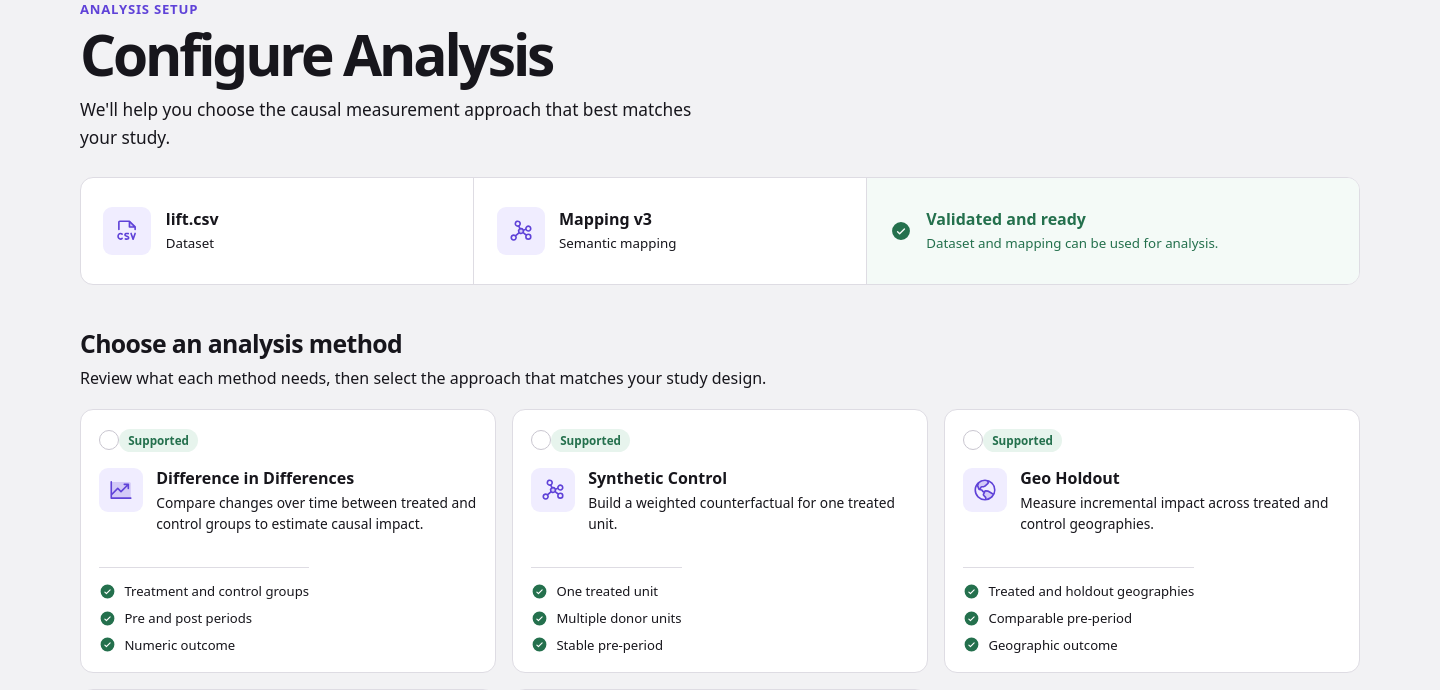
Test: Analysis Configuration estimator selection › rejects an intervention date without a usable pre-period
Click the button "Difference in Differences" at (159, 440), box [80,409,496,673]
(page scrolled)
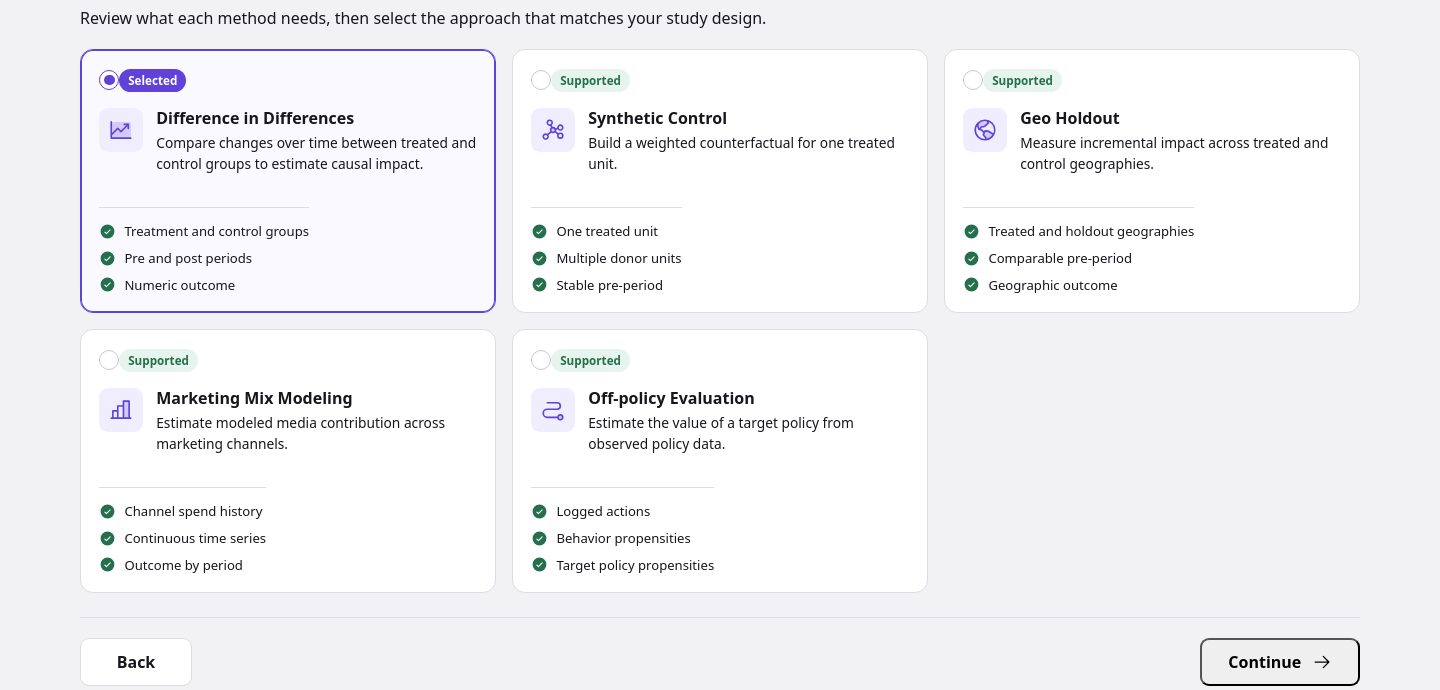
Click the button "Continue" at (1280, 662), box [1200,638,1360,686]
(page scrolled)
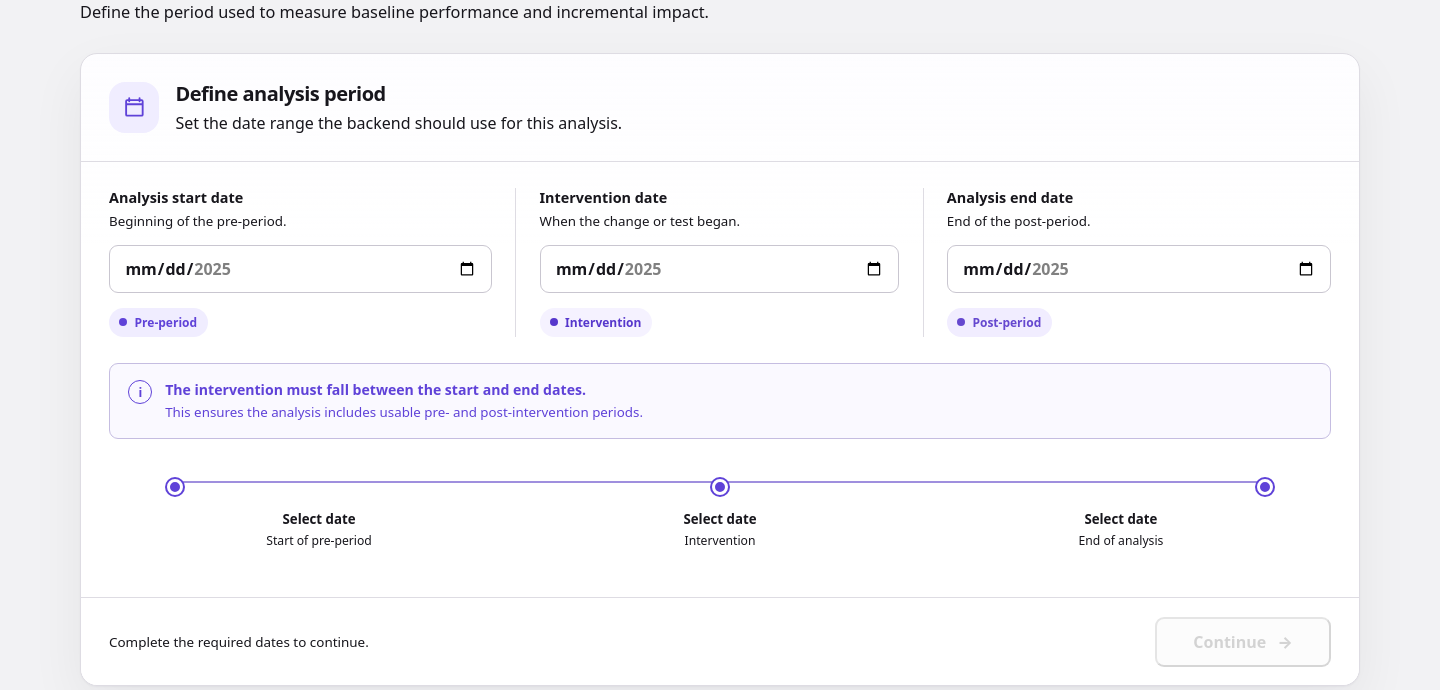
Type "2025-01-01" into the date field labelled "Analysis start date" at (301, 269), box [109,245,492,293]
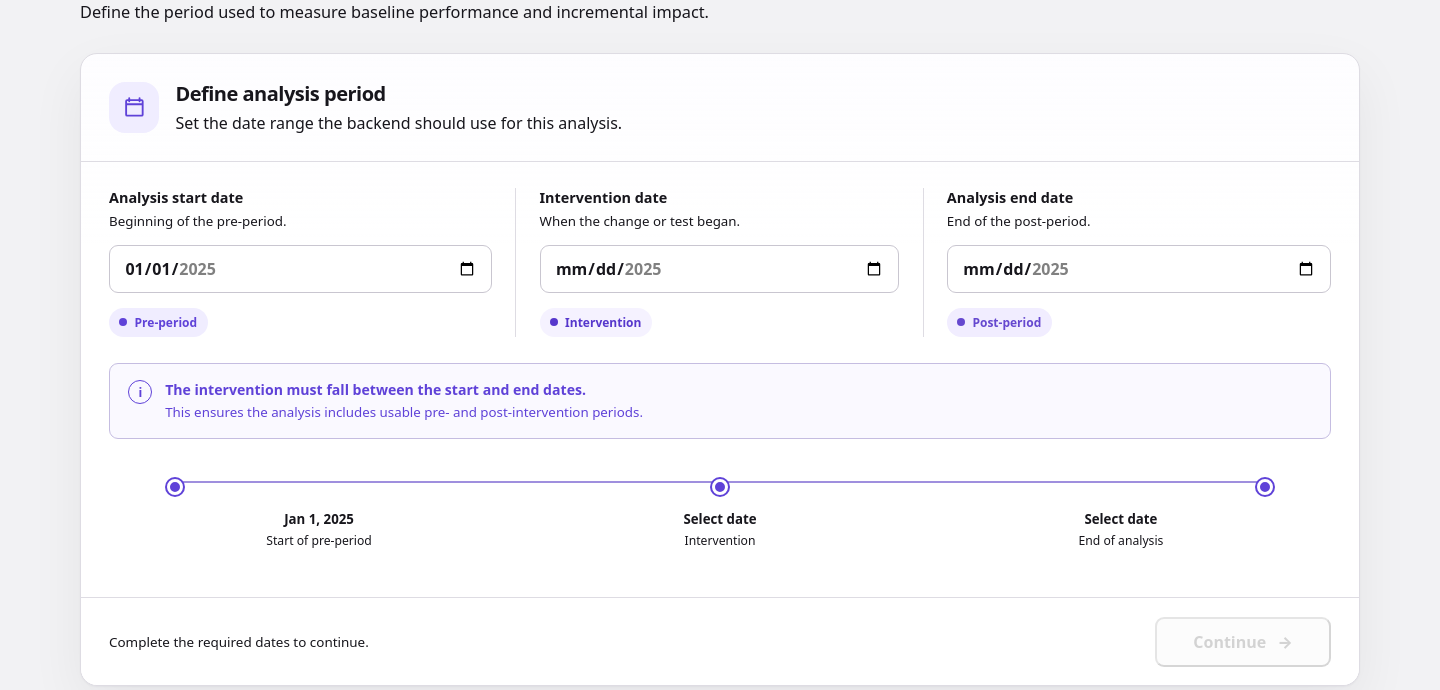
Type "2025-01-01" into the date field labelled "Intervention date" at (720, 269), box [540,245,900,293]
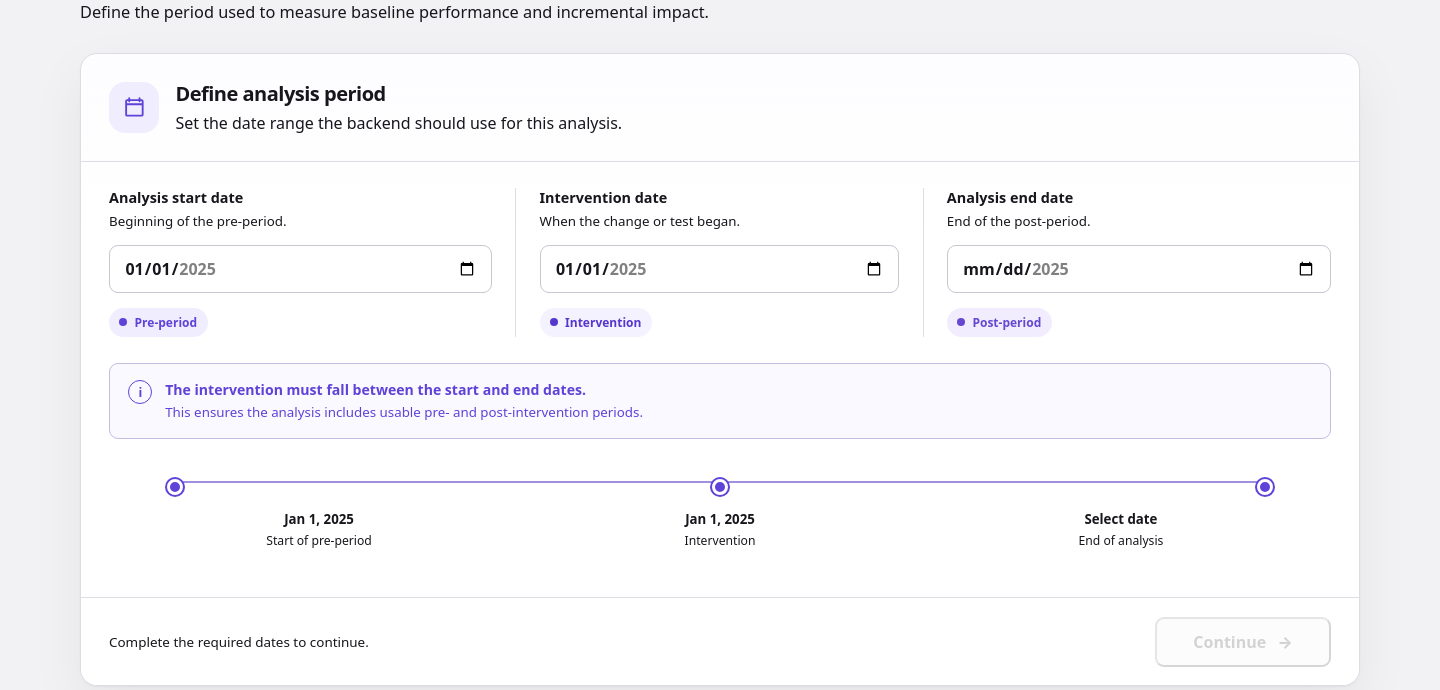
Type "2025-03-31" into the date field labelled "Analysis end date" at (1139, 269), box [947,245,1331,293]
(page scrolled)
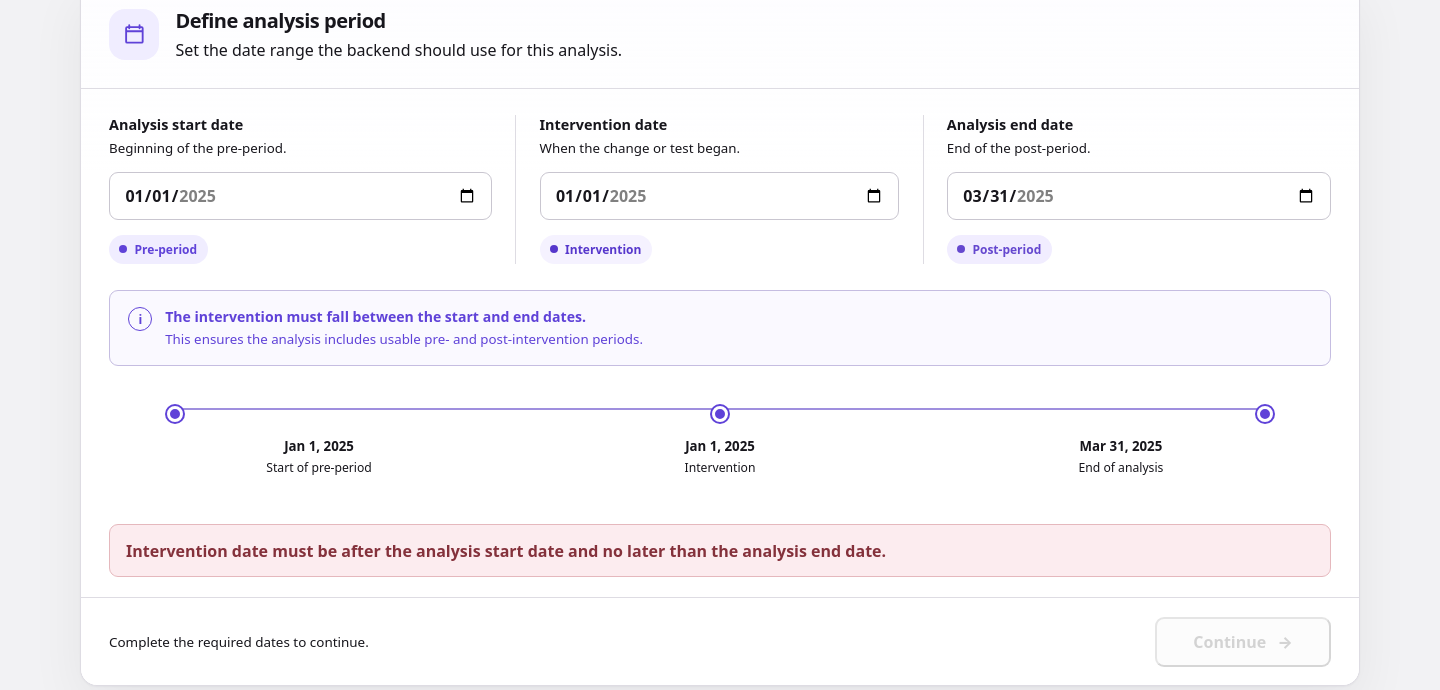
Expected: the button "Continue →" is disabled, [1155,616,1331,667]
Expected: the message shows "Intervention date must be after the analysis start date and no later than the analysis end date.", [126,540,886,562]
